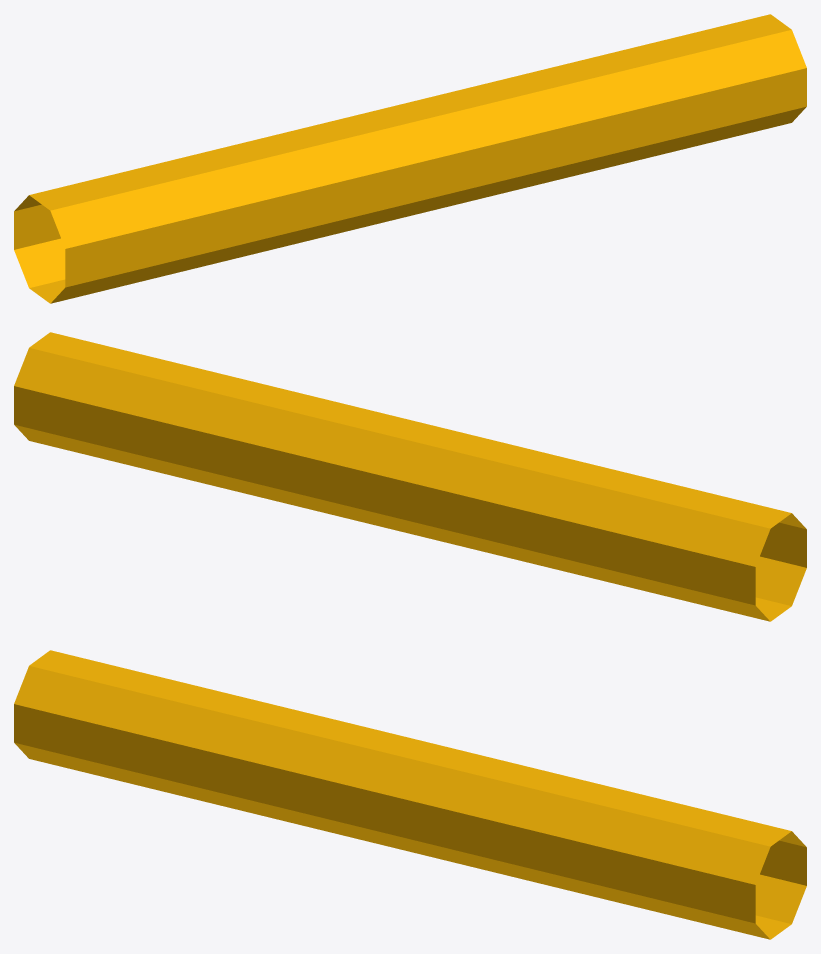
Rendered from fpe_fluid_line_straight.dae.
3 views of the same model, one above another, from view 1: azimuth 30°, elevation 25°; view 2: azimuth 150°, elevation 25°; view 3: azimuth 330°, elevation 25° (orthographic).
Visible parts, largest first — view 1: fluid_line_straight; view 2: fluid_line_straight; view 3: fluid_line_straight.
Part boxes in pixels (x1,y1,x2,y2): fluid_line_straight: (14,14,806,303); fluid_line_straight: (14,332,806,621); fluid_line_straight: (14,650,806,939).
Bounding box in the file's own units: 0.25 × 0.03 × 0.03.
